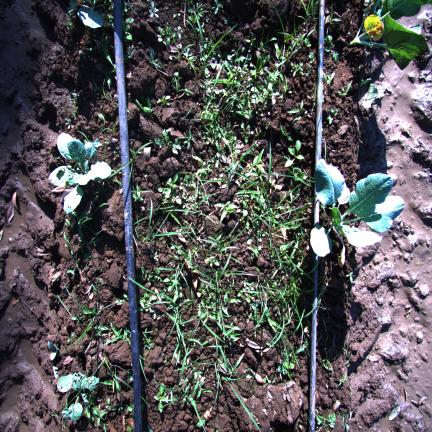crop: (310, 160, 404, 257), (349, 0, 432, 69), (49, 133, 112, 213), (57, 373, 99, 392), (62, 402, 83, 421)
